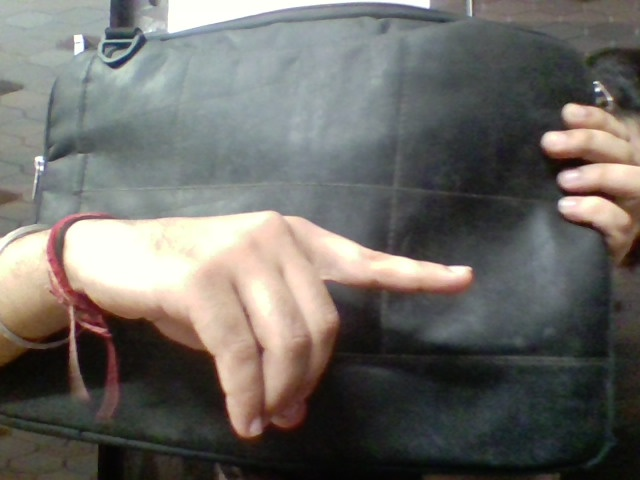p: (130, 188, 489, 443)
